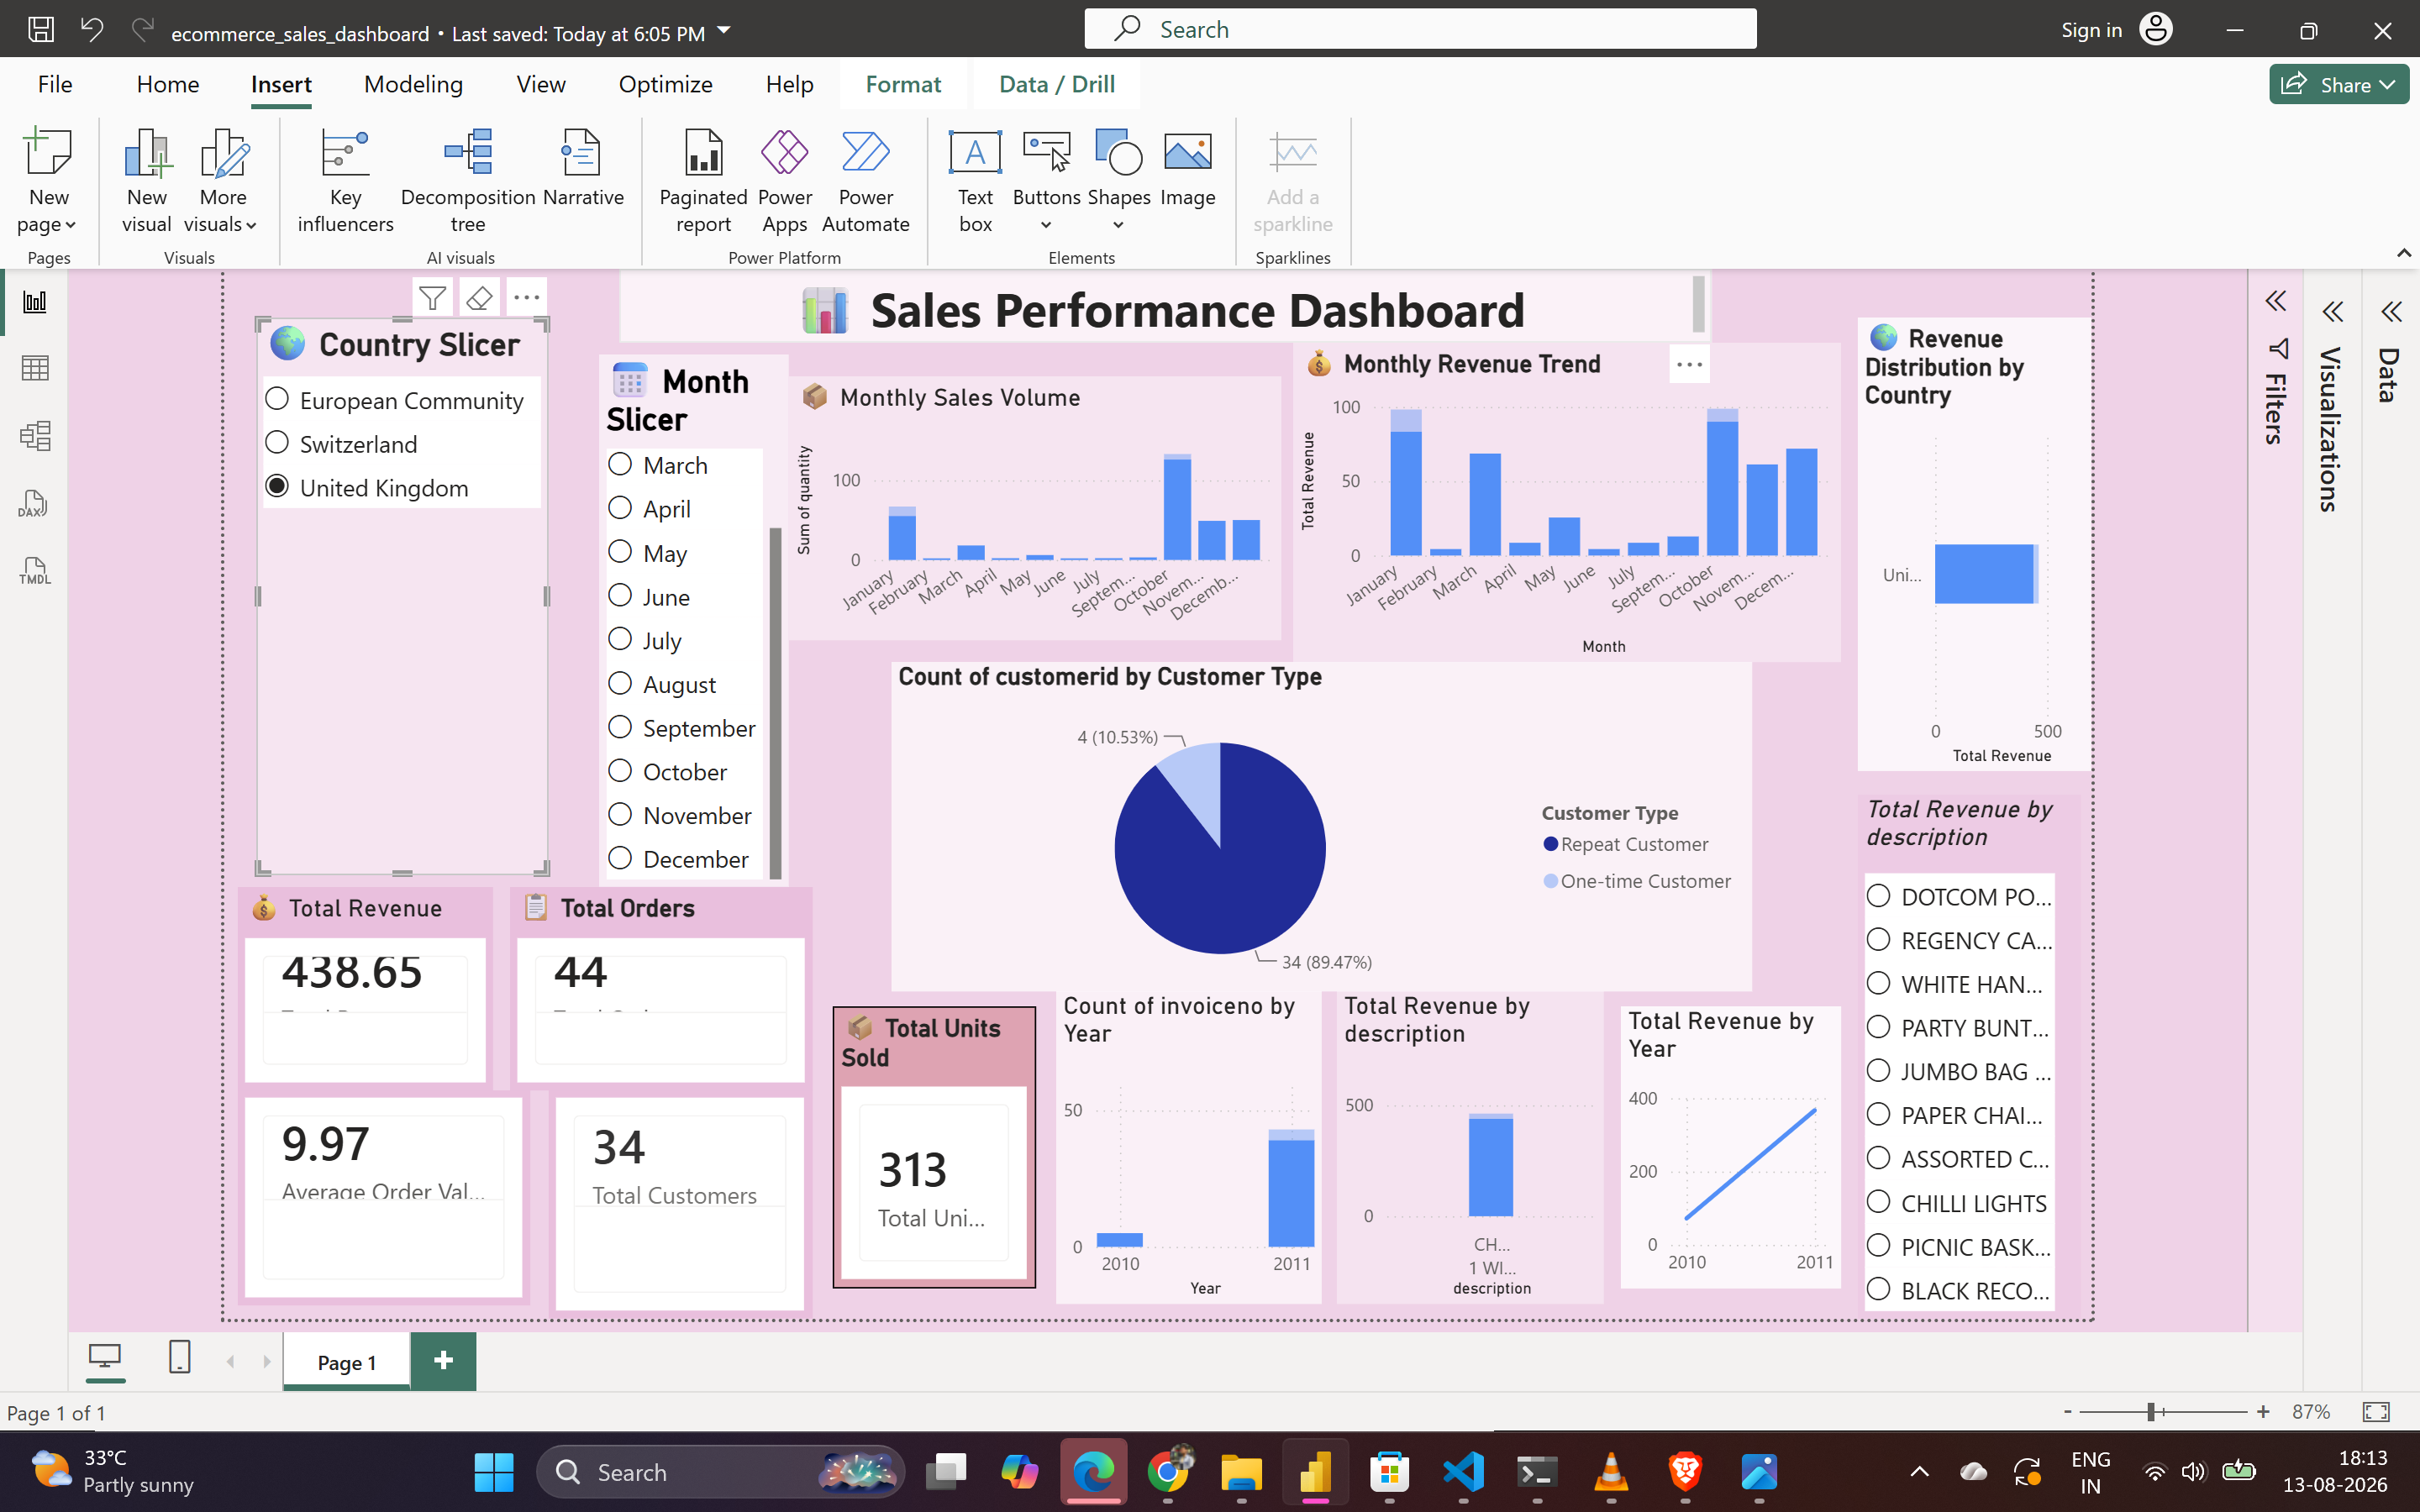

The page's visual inventory and layout, read from the dashboard file:
{"tool":"powerbi","page":{"name":"Page 1","canvas":[1280,720],"ordinal":0},"visuals":[{"type":"cardVisual","title":"💰 Total Revenue","fields":{"Data":["public online_retail.Total Revenue"]},"box":[9.2,423.9,175.1,139.4],"z":0},{"type":"cardVisual","title":"📋 Total Orders","fields":{"Data":["public online_retail.Total Orders"]},"box":[195.8,423.9,207.4,139.4],"z":1000},{"type":"cardVisual","fields":{"Data":["public online_retail.Total Customers"]},"box":[222.3,563.3,180.9,156.7],"z":2000},{"type":"cardVisual","title":"📦 Total Units Sold","fields":{"Data":["public online_retail.Total Units Sold"]},"box":[417,505.7,139.4,193.5],"z":3000},{"type":"cardVisual","fields":{"Data":["public online_retail.Average Order Value"]},"box":[9.2,563.3,200.4,147.5],"z":4000},{"type":"listSlicer","fields":{"Values":["public online_retail.description"]},"box":[1119.7,360.6,153.2,359.4],"z":6000},{"type":"clusteredColumnChart","fields":{"Category":["public online_retail.description"],"Y":["public online_retail.Total Revenue"]},"box":[762.6,495.4,183.2,214.3],"z":7000},{"type":"pieChart","fields":{"Category":["public online_retail.Customer Type"],"Y":["Count(public online_retail.customerid)"]},"box":[457.3,269.6,589.8,225.8],"z":8000},{"type":"lineChart","fields":{"Y":["public online_retail.Total Revenue"],"Category":["public online_retail.invoicedate.Variation.Date Hierarchy.Year","public online_retail.invoicedate.Variation.Date Hierarchy.Quarter","public online_retail.invoicedate.Variation.Date Hierarchy.Month","public online_retail.invoicedate.Variation.Date Hierarchy.Day"]},"box":[957.3,505.7,150.9,193.5],"z":9000},{"type":"clusteredColumnChart","fields":{"Category":["public online_retail.invoicedate.Variation.Date Hierarchy.Year","public online_retail.invoicedate.Variation.Date Hierarchy.Quarter","public online_retail.invoicedate.Variation.Date Hierarchy.Month","public online_retail.invoicedate.Variation.Date Hierarchy.Day"],"Y":["Count(public online_retail.invoiceno)"]},"box":[570.2,495.4,182,214.3],"z":10000},{"type":"clusteredColumnChart","title":"📦 Monthly Sales Volume","fields":{"Category":["public online_retail.invoicedate.Variation.Date Hierarchy.Month"],"Y":["Sum(public online_retail.quantity)"]},"box":[387.1,73.7,337.5,180.9],"z":11000},{"type":"clusteredColumnChart","title":"💰 Monthly Revenue Trend","fields":{"Y":["public online_retail.Total Revenue"],"Category":["public online_retail.invoicedate.Variation.Date Hierarchy.Month"]},"box":[732.7,50.7,375.6,218.9],"z":12000},{"type":"clusteredBarChart","title":"🌍 Revenue Distribution by Country","fields":{"Category":["public online_retail.country"],"Y":["public online_retail.Total Revenue"]},"box":[1119.7,33.4,160.1,311],"z":13000},{"type":"textbox","box":[270.7,0,748.8,50.7],"z":14000},{"type":"listSlicer","title":"🌍 Country Slicer ","fields":{"Values":["public online_retail.country"]},"box":[21.9,33.4,200.4,382.5],"z":15000},{"type":"listSlicer","title":"📅 Month Slicer ","fields":{"Values":["public online_retail.invoicedate.Variation.Date Hierarchy.Month"]},"box":[256.9,58.8,130.2,365.2],"z":16000}]}

Visuals, with their boxes on the page's 1280x720 design canvas (x1, y1, x2, y2). These are canvas units, not pixel positions in the 2420x1512 screenshot, which may show the page scaled, cropped or inside an application window:
"💰 Total Revenue" cardVisual: box=[9, 424, 184, 563]
"📋 Total Orders" cardVisual: box=[196, 424, 403, 563]
cardVisual - public online_retail.Total Customers: box=[222, 563, 403, 720]
"📦 Total Units Sold" cardVisual: box=[417, 506, 556, 699]
cardVisual - public online_retail.Average Order Value: box=[9, 563, 210, 711]
listSlicer - public online_retail.description: box=[1120, 361, 1273, 720]
clusteredColumnChart - public online_retail.description x public online_retail.Total Revenue: box=[763, 495, 946, 710]
pieChart - public online_retail.Customer Type x Count(public online_retail.customerid): box=[457, 270, 1047, 495]
lineChart - public online_retail.Total Revenue x public online_retail.invoicedate.Variation.Date Hierarchy.Year: box=[957, 506, 1108, 699]
clusteredColumnChart - public online_retail.invoicedate.Variation.Date Hierarchy.Year x public online_retail.invoicedate.Variation.Date Hierarchy.Quarter: box=[570, 495, 752, 710]
"📦 Monthly Sales Volume" clusteredColumnChart: box=[387, 74, 725, 255]
"💰 Monthly Revenue Trend" clusteredColumnChart: box=[733, 51, 1108, 270]
"🌍 Revenue Distribution by Country" clusteredBarChart: box=[1120, 33, 1280, 344]
textbox: box=[271, 0, 1020, 51]
"🌍 Country Slicer " listSlicer: box=[22, 33, 222, 416]
"📅 Month Slicer " listSlicer: box=[257, 59, 387, 424]
